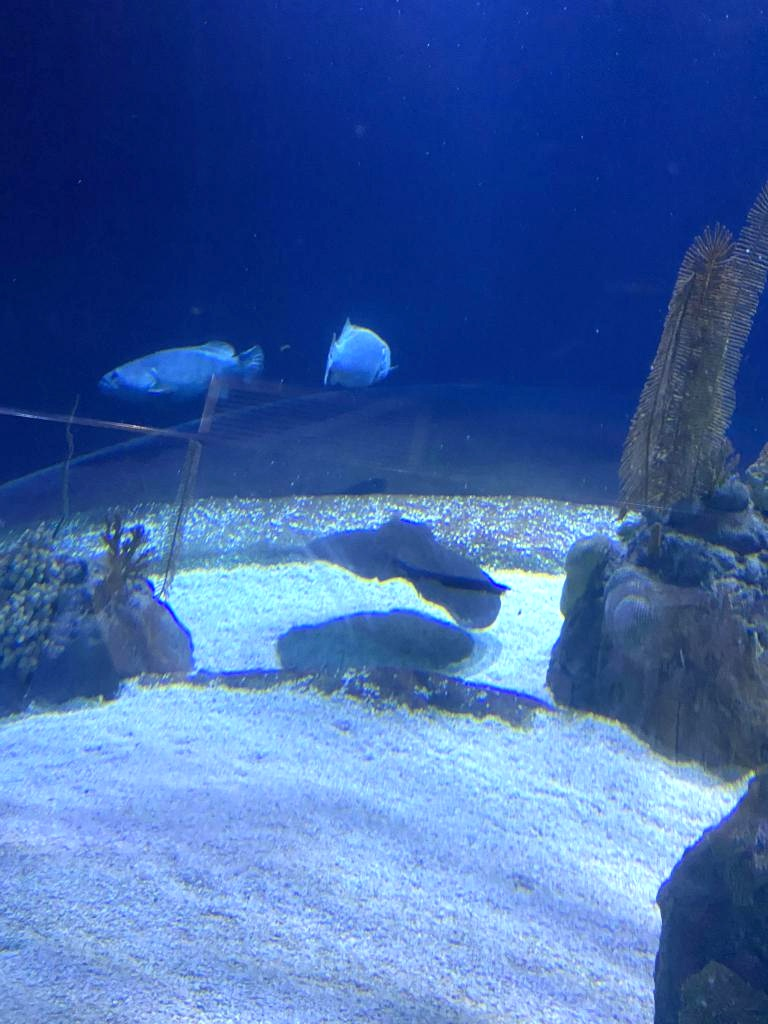fish: (96, 342, 262, 398), (324, 321, 392, 387)
stingray: (306, 514, 500, 630)
